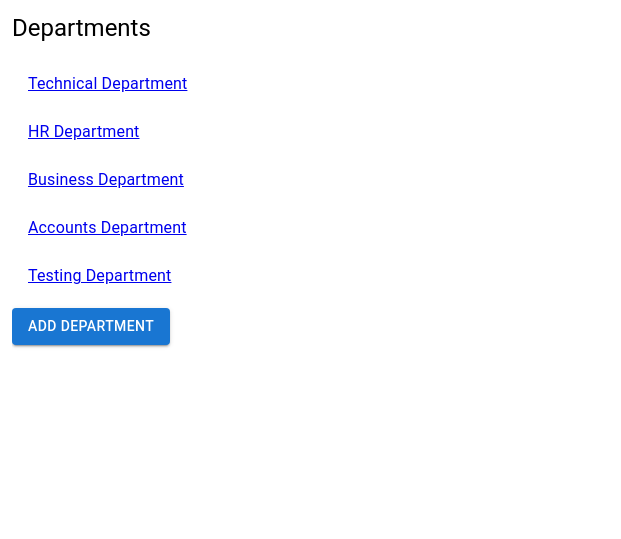
Department Management - Task › shows an error message when adding without department name and manager name
The width and height of the screenshot is (621, 539).
What coordinates should you click on to do the following:
click the button "Add Department"
I would click on:
 (91, 327)
Its box is [12, 308, 170, 345].
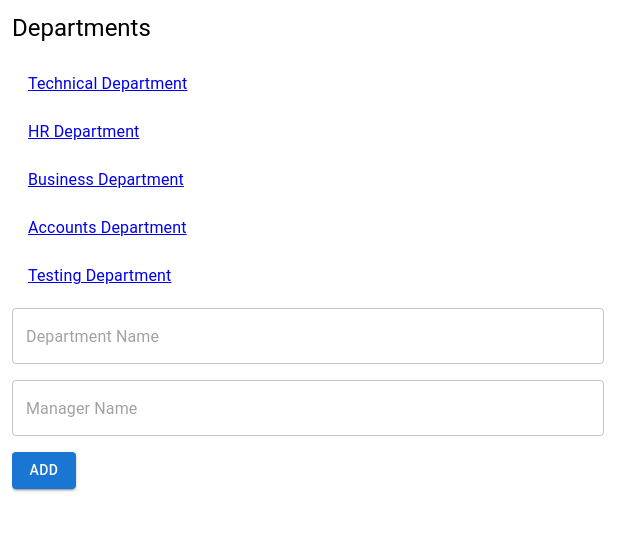
What coordinates should you click on to do the following:
click the button "Add"
I would click on:
 (44, 471)
Its box is [12, 452, 76, 489].
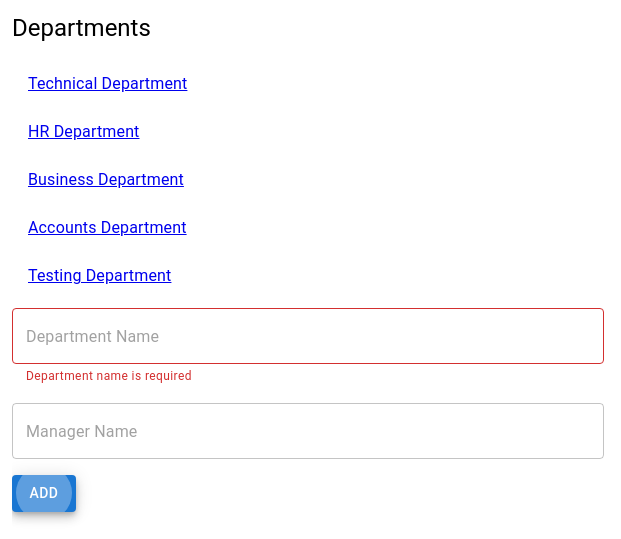
Expected: the text "Department name is required" is shown, [26, 369, 192, 383]
